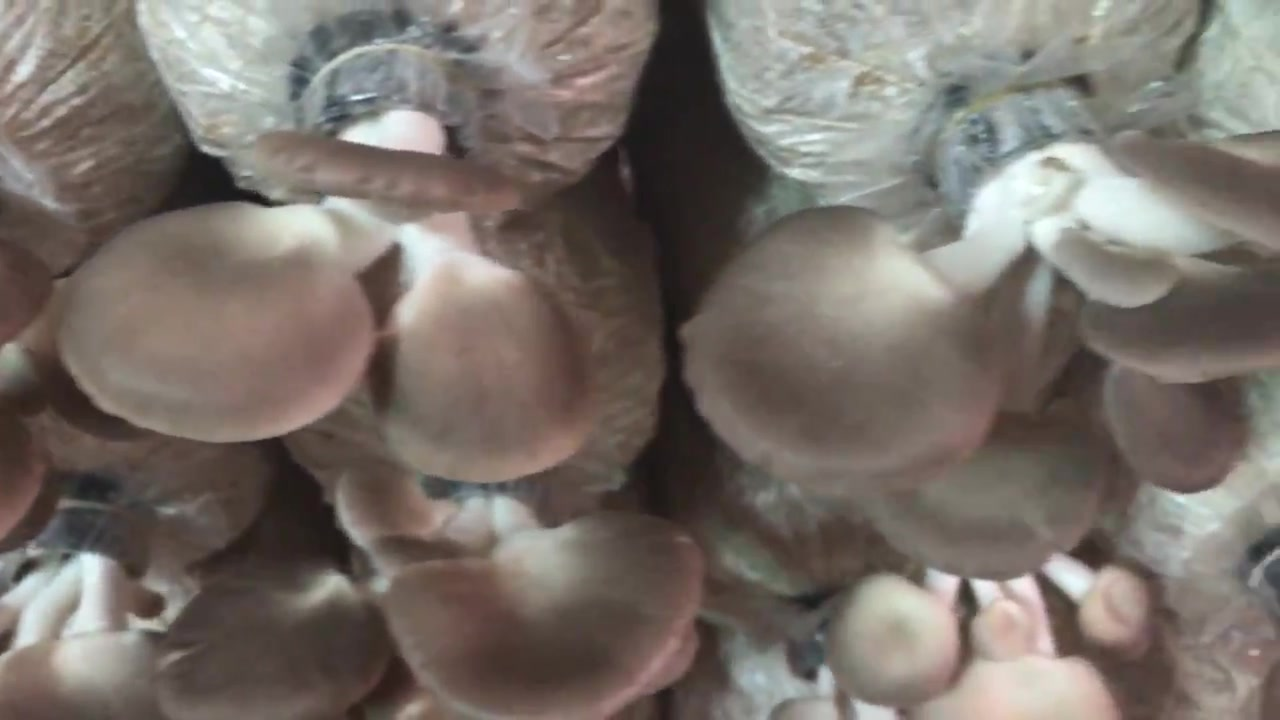nam: (685, 85, 1280, 576), (64, 48, 593, 484), (160, 471, 700, 720), (831, 555, 1150, 720), (1, 482, 159, 719), (766, 630, 858, 720)
